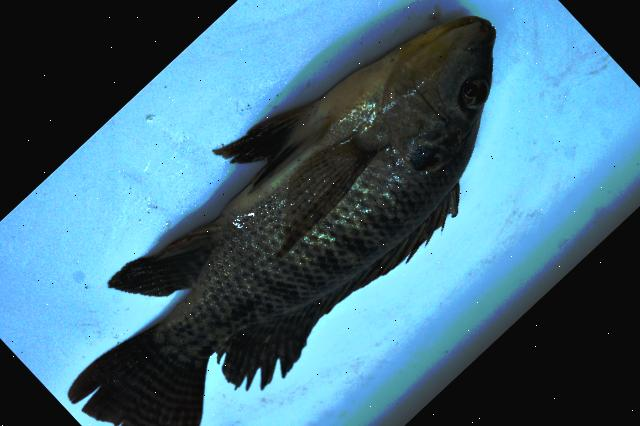Healthy Fish: (67, 15, 494, 426)
